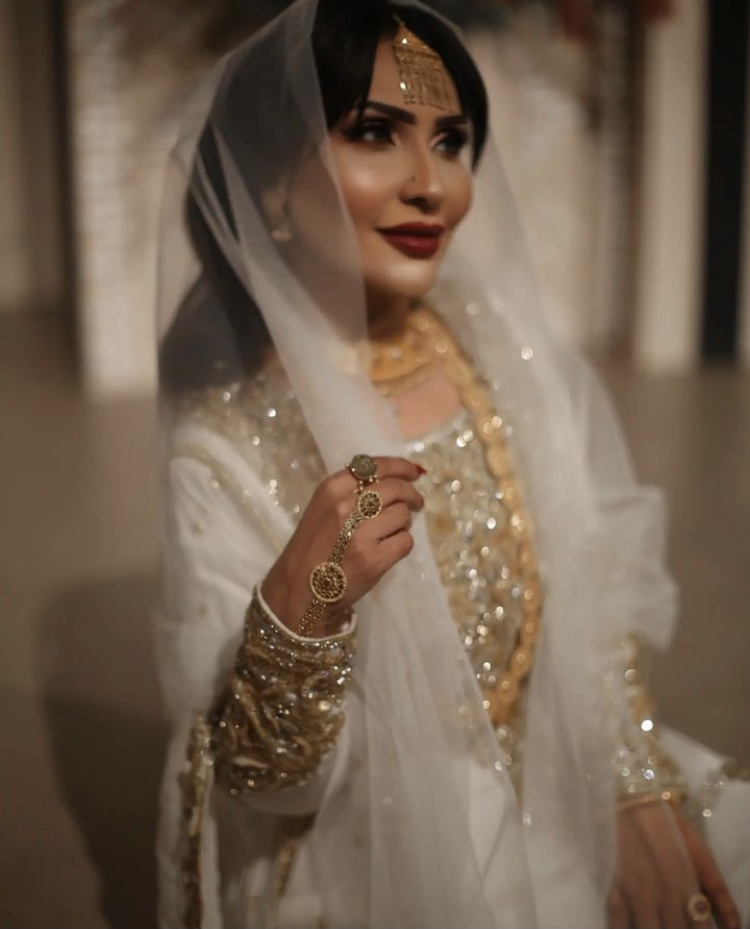Saudi_Founding_Day: (152, 4, 750, 929)
